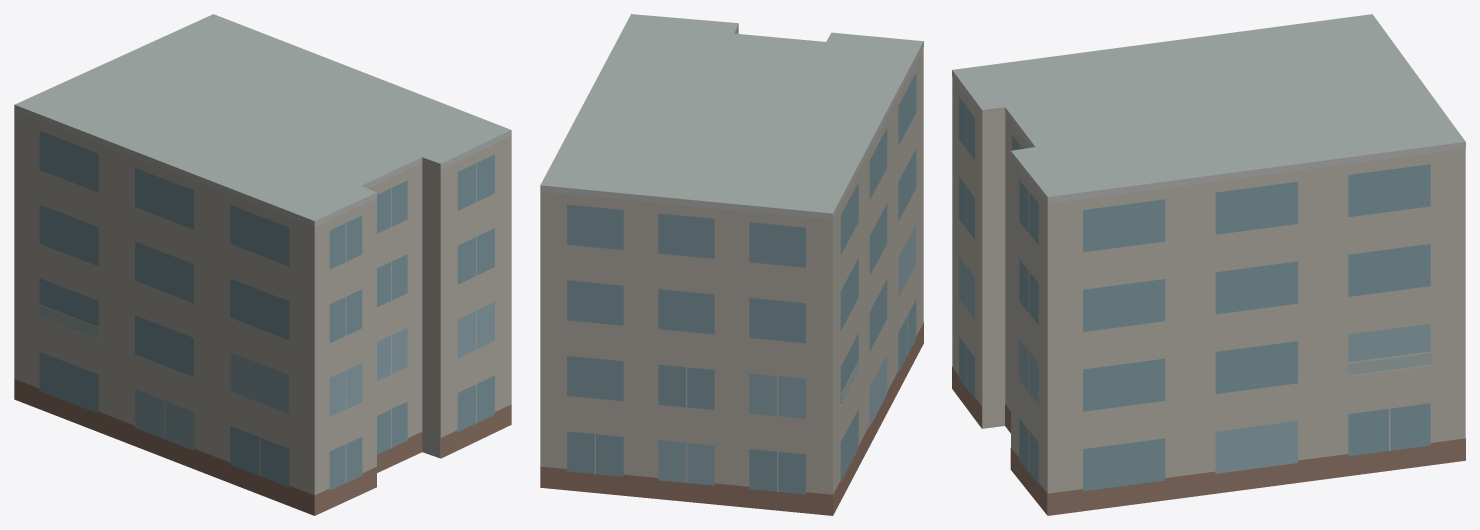
File: survey-upis-32981386.glb
The picture shows the model from 3 angles, left to right: view 1: azimuth 30°, elevation 25°; view 2: azimuth 150°, elevation 25°; view 3: azimuth 270°, elevation 25°; orthographic projection. The views are drawn at different scales.
Visible parts, largest first — view 1: survey-upis-32981386.tmp; view 2: survey-upis-32981386.tmp; view 3: survey-upis-32981386.tmp.
Part boxes in pixels (<box>): survey-upis-32981386.tmp: <box>14,14,511,515</box>; survey-upis-32981386.tmp: <box>540,14,923,515</box>; survey-upis-32981386.tmp: <box>952,14,1465,515</box>.
Size of the model in its own units: 14.6 by 11.85 by 17.31.
